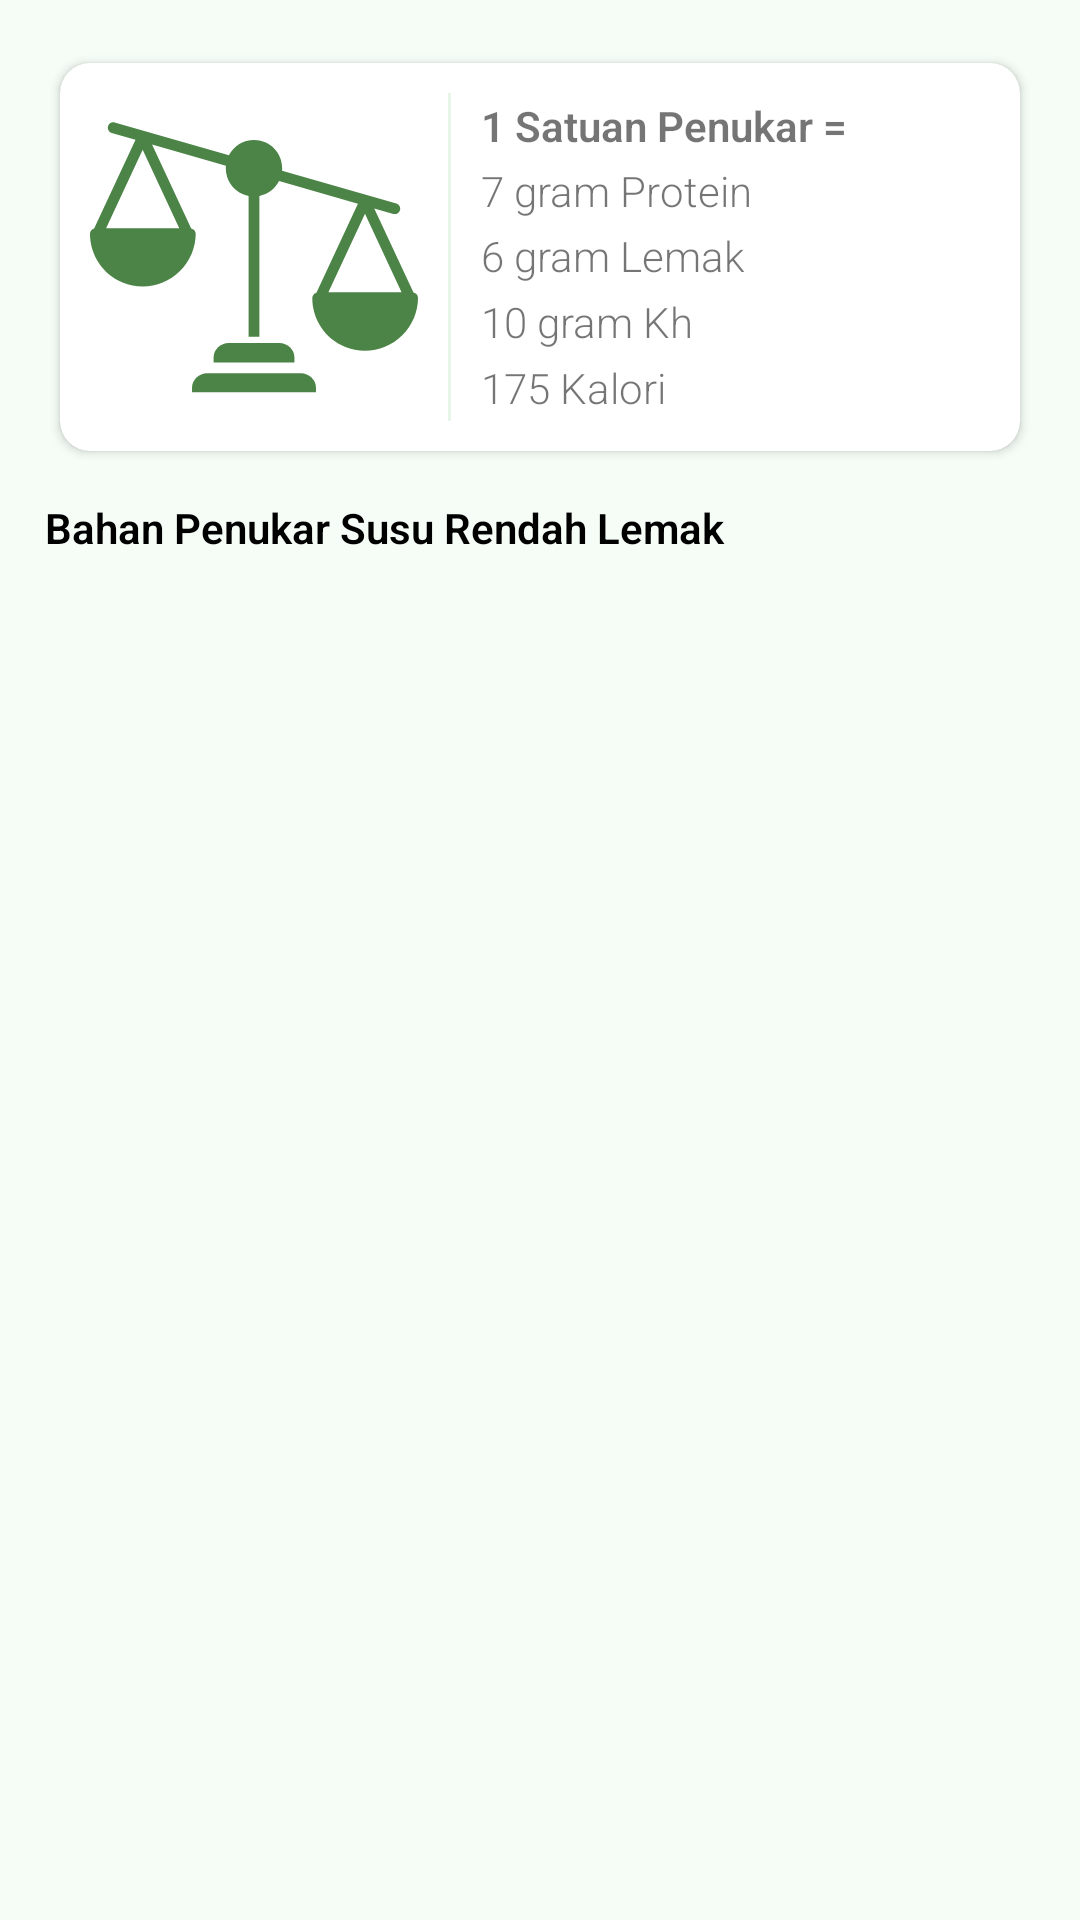

Icons on this 1080 x 1920 Android screen, each with its box as (x1, y1, x2, y2):
balance: (90, 122, 418, 393)
